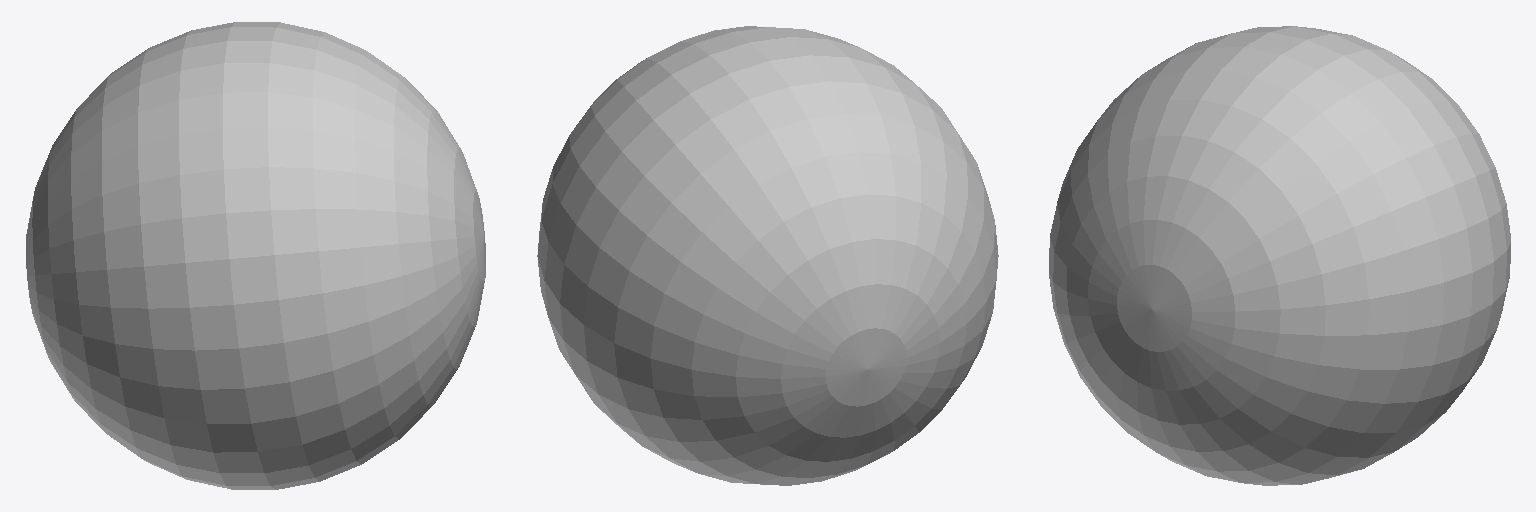
The model's file is Golf+ball.obj.
The picture shows the model from 3 angles: view 1: azimuth 30°, elevation 25°; view 2: azimuth 150°, elevation 25°; view 3: azimuth 270°, elevation 25°; orthographic projection.
Visible parts, largest first — view 1: Sphere01; view 2: Sphere01; view 3: Sphere01.
Boxes of the visible parts, x1=… form: Sphere01: x1=26, y1=22, x2=485, y2=489; Sphere01: x1=537, y1=26, x2=998, y2=485; Sphere01: x1=1049, y1=26, x2=1510, y2=485.
Bounding box in the file's own units: 5.7 × 5.73 × 5.72.